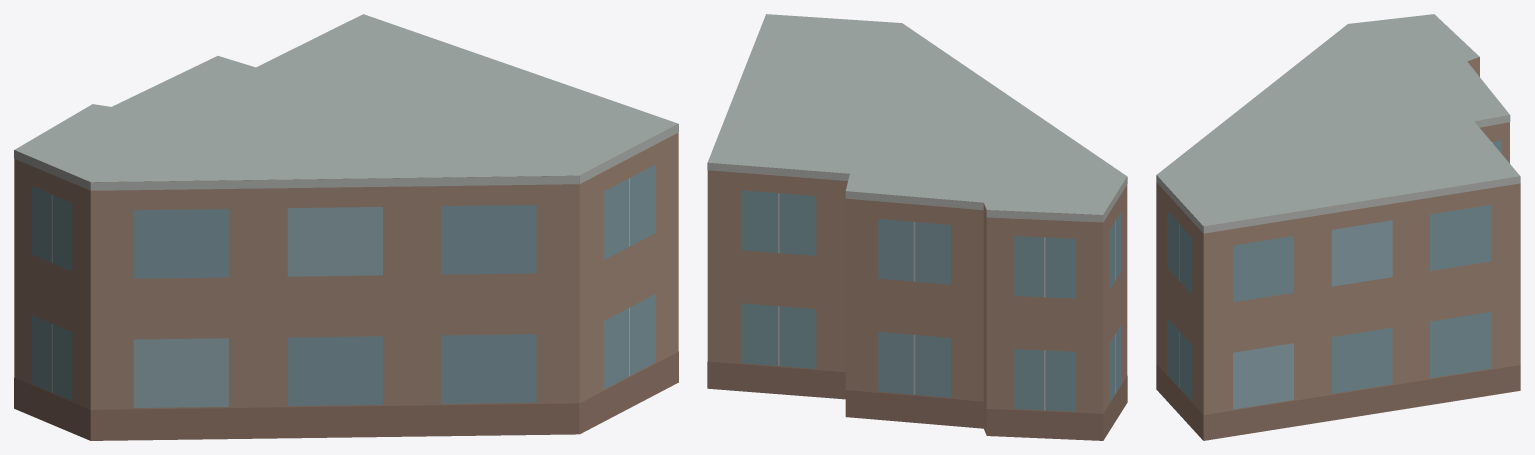
File: survey-upis-32901338.glb
The picture shows the model from 3 angles, left to right: view 1: azimuth 30°, elevation 25°; view 2: azimuth 150°, elevation 25°; view 3: azimuth 270°, elevation 25°; orthographic projection. The views are drawn at different scales.
Parts seen in each view (by area): view 1: survey-upis-32901338.tmp; view 2: survey-upis-32901338.tmp; view 3: survey-upis-32901338.tmp.
Boxes of the visible parts, <box> form: survey-upis-32901338.tmp: <box>14,14,678,440</box>; survey-upis-32901338.tmp: <box>707,14,1127,440</box>; survey-upis-32901338.tmp: <box>1156,14,1520,440</box>.
Size of the model in its own units: 15.52 by 7.3 by 11.24.
